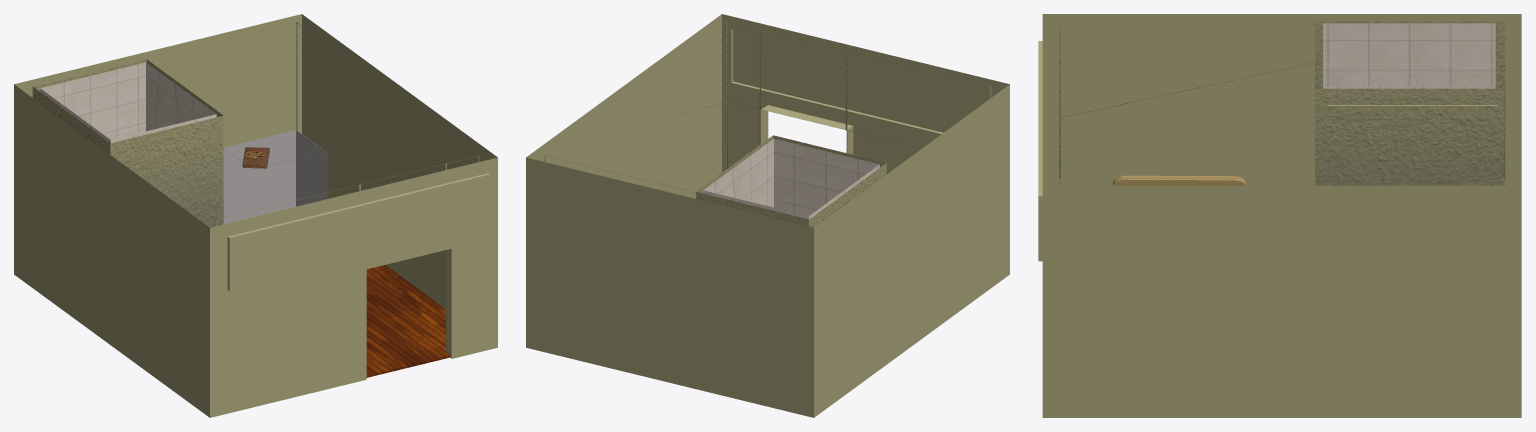
Rendered from Lodge_Room_Scene.fbx.
3 views of the same model, side by side, from view 1: azimuth 30°, elevation 25°; view 2: azimuth 150°, elevation 25°; view 3: azimuth 270°, elevation 25° (orthographic). The views are drawn at different scales.
Parts seen in each view (by area): view 1: Pawnshop_scene1:Walls, Walls, Dresser, Floor_Lodge, SatanicBible; view 2: Pawnshop_scene1:Walls, Walls; view 3: Pawnshop_scene1:Walls, Walls, Bed_Lodge.
Part boxes in pixels (bbox=[...]): Pawnshop_scene1:Walls: bbox=[14, 14, 497, 417]; Walls: bbox=[33, 59, 223, 227]; Dresser: bbox=[223, 130, 326, 224]; Floor_Lodge: bbox=[366, 265, 450, 377]; SatanicBible: bbox=[242, 147, 269, 168]; Pawnshop_scene1:Walls: bbox=[526, 14, 1009, 417]; Walls: bbox=[696, 135, 886, 227]; Pawnshop_scene1:Walls: bbox=[1038, 14, 1521, 417]; Walls: bbox=[1315, 21, 1503, 185]; Bed_Lodge: bbox=[1113, 175, 1246, 185].
Size of the model in its own units: 7.92 by 5 by 9.42.
